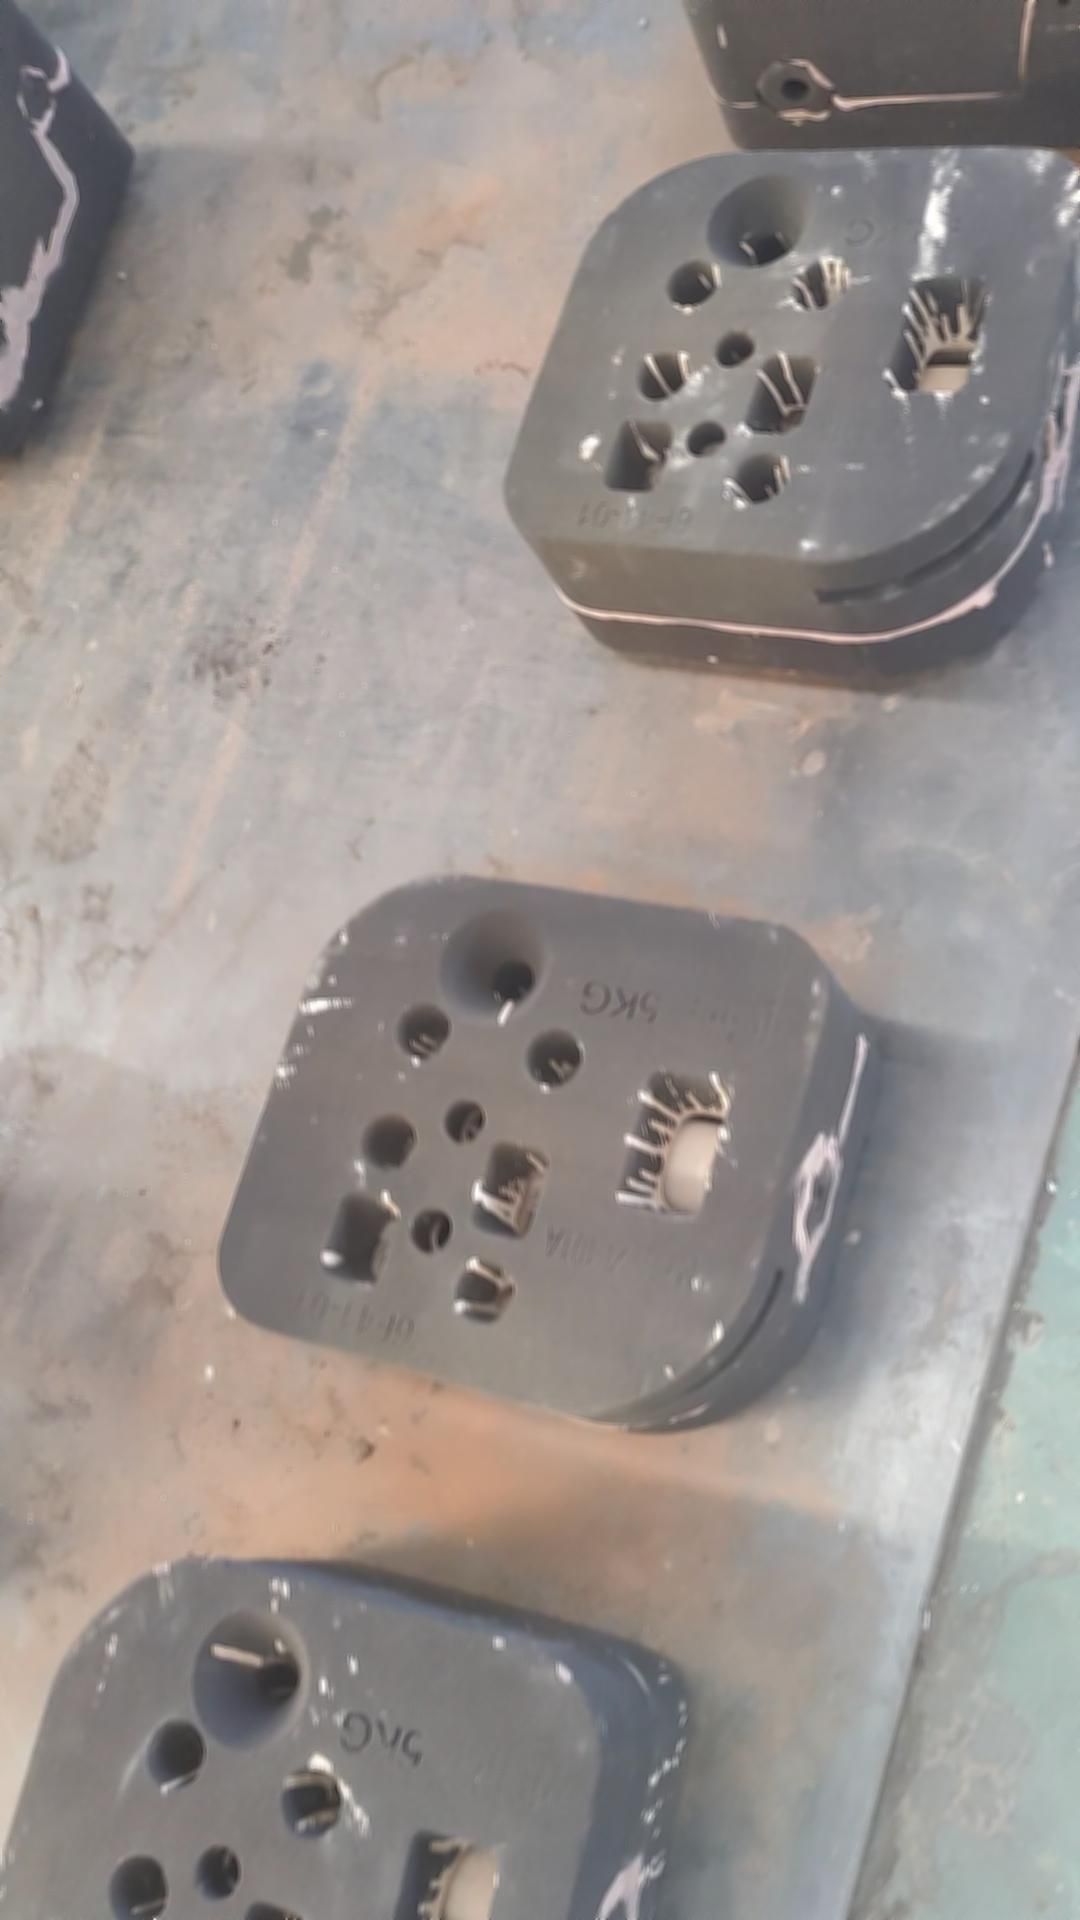pouring hole: (191, 1605, 311, 1753), (436, 909, 554, 1023), (707, 171, 814, 265)
